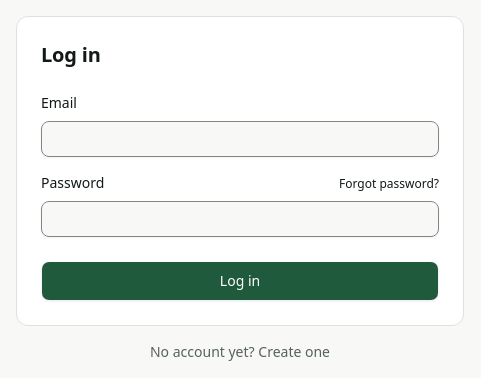
Scenario: LoginPage › falls back to the terminal done message when no returnTo was given
The width and height of the screenshot is (481, 378).
Type "grace@example.com" into the field labelled "Email" at coordinates (240, 139), box [41,121,439,157]
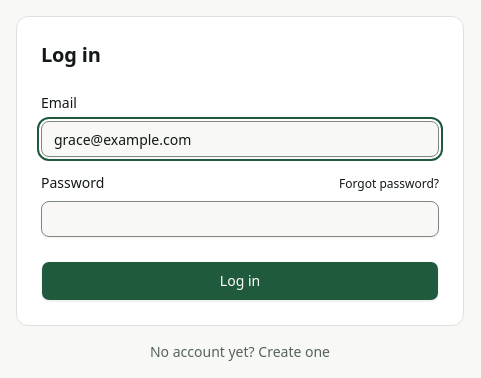
Type "secret" into the password field labelled "Password" at coordinates (240, 219), box [41,201,439,237]
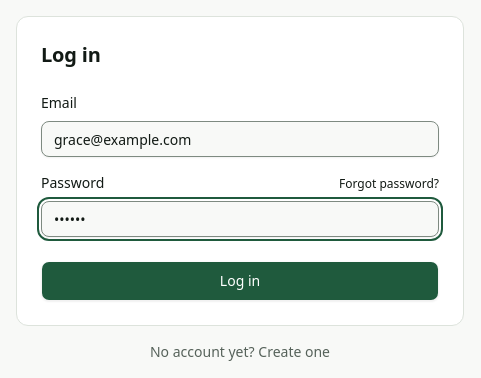
Click the button "Log in" at coordinates (240, 281), box [41,261,439,301]
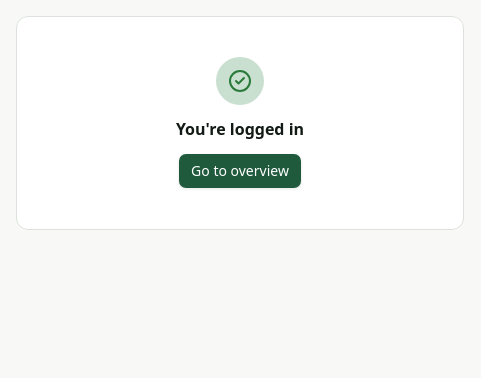
expect the text "You're logged in" is shown: met, box [176,117,304,141]
